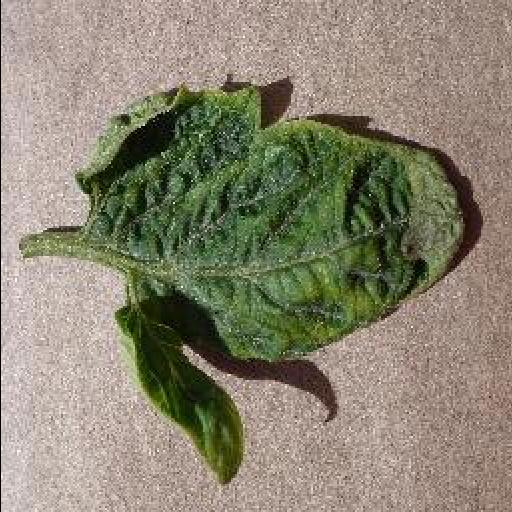disease_tomato: (70, 82, 474, 486)
